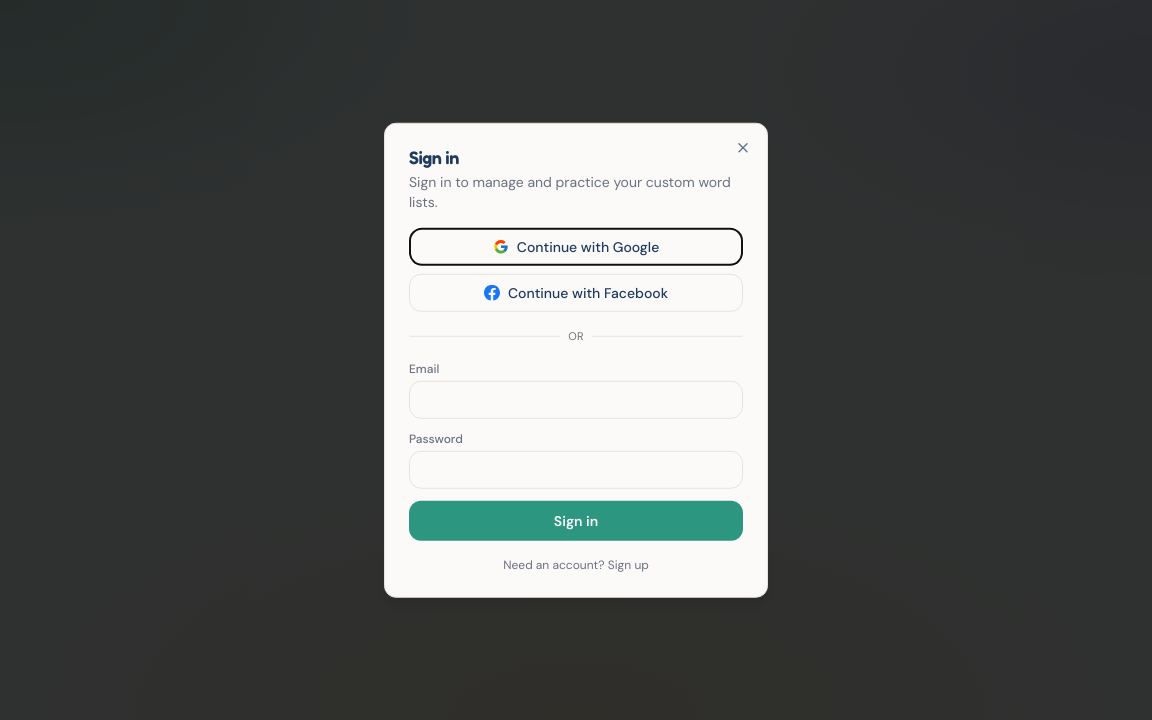
Test case: authentication and payment components › handles password errors, signup success, and social errors
Type " learner@example.com " into the field at (576, 399), box [409, 380, 743, 418]
Type "secret" into the password field at (576, 469), box [409, 450, 743, 488]
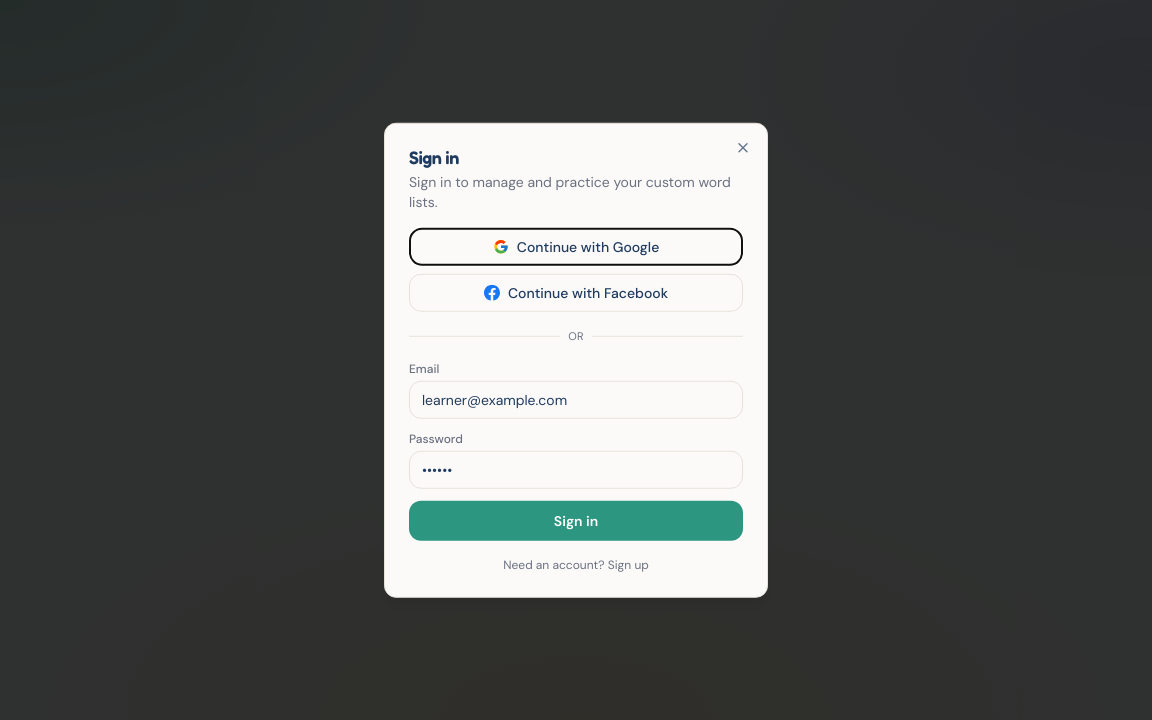
Click the button "Sign in" at (576, 520), box [409, 500, 743, 540]
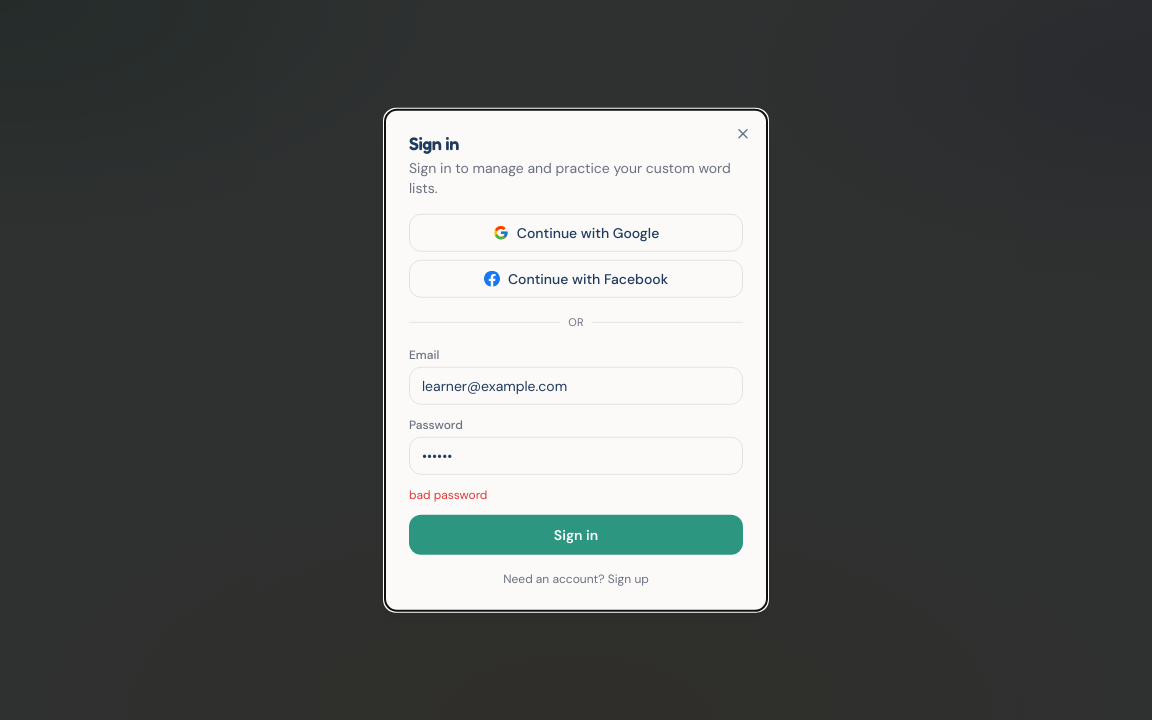
Expected: the text "bad password" is shown, [409, 486, 487, 502]
Click the button "Need an account? Sign up" at (576, 578), box [409, 570, 743, 586]
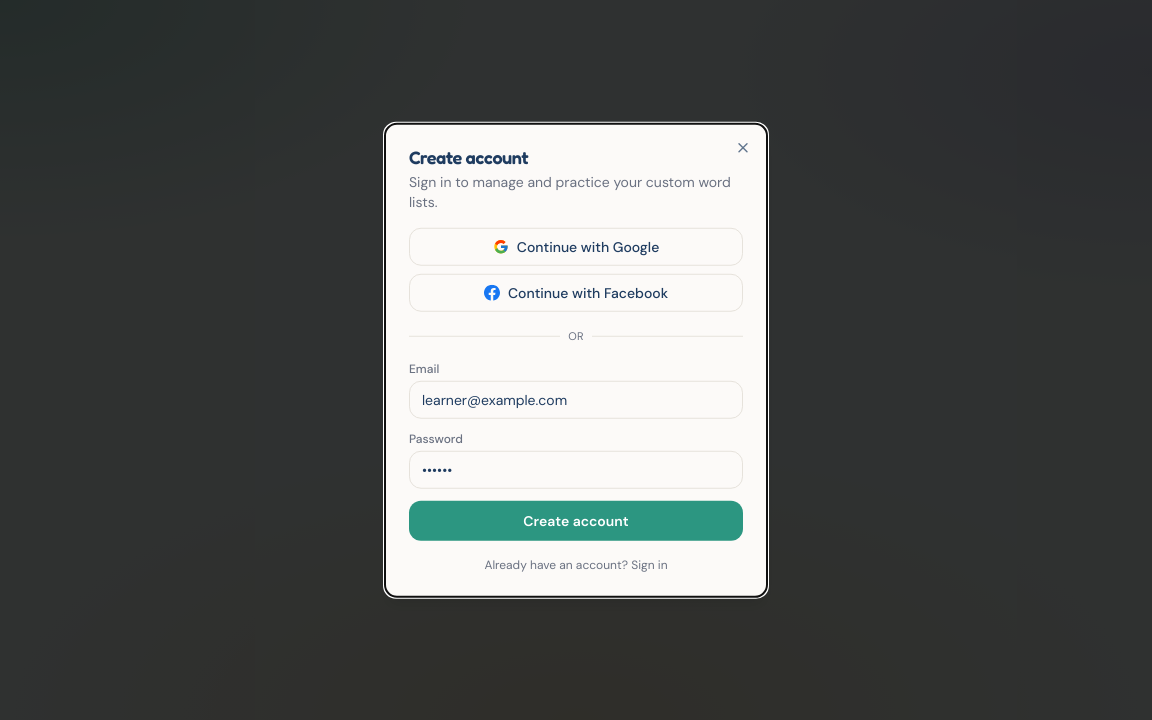
Click the button "Create account" at (576, 520), box [409, 500, 743, 540]
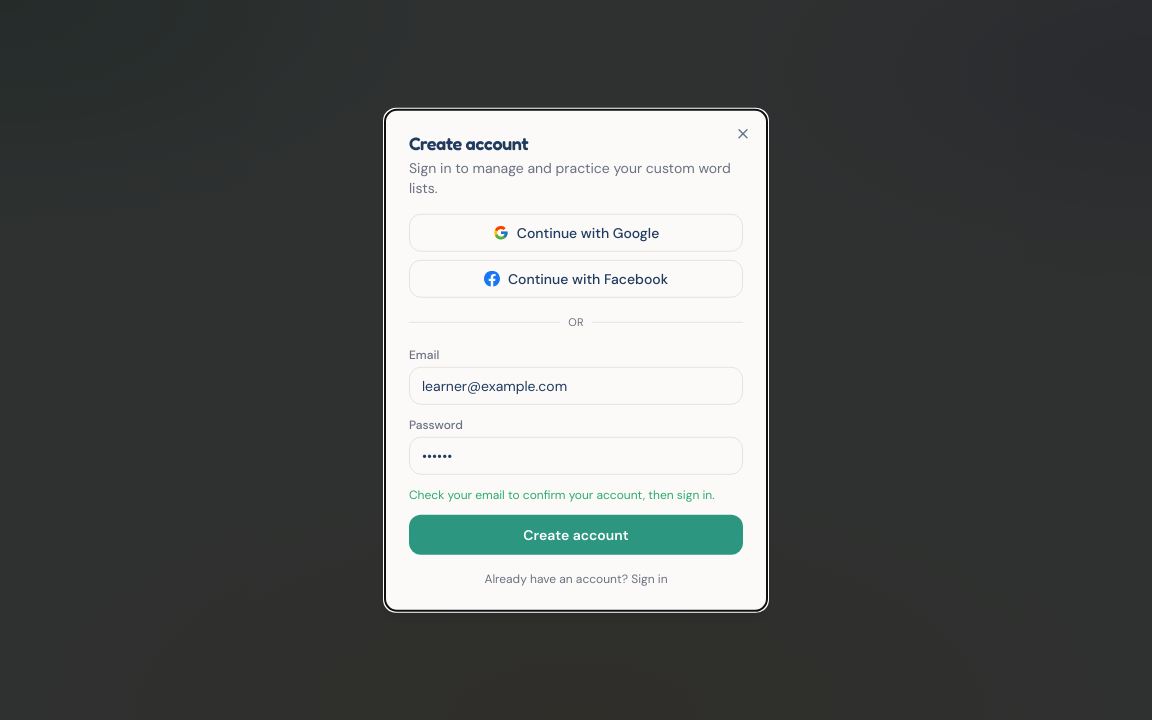
Expected: the text "Check your email to confirm your account, then sign in." is shown, [409, 486, 743, 502]
Click the button "Continue with Google" at (576, 233), box [409, 214, 743, 252]
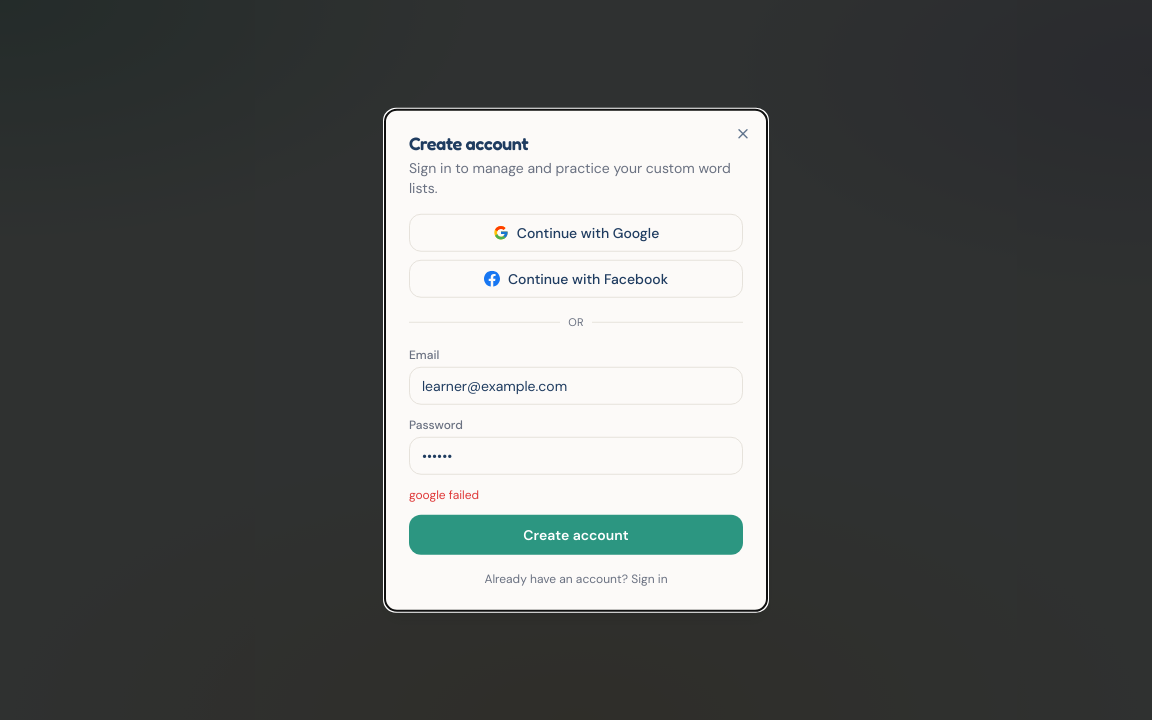
Expected: the text "google failed" is shown, [409, 486, 479, 502]
Click the button "Continue with Facebook" at (576, 279), box [409, 260, 743, 298]
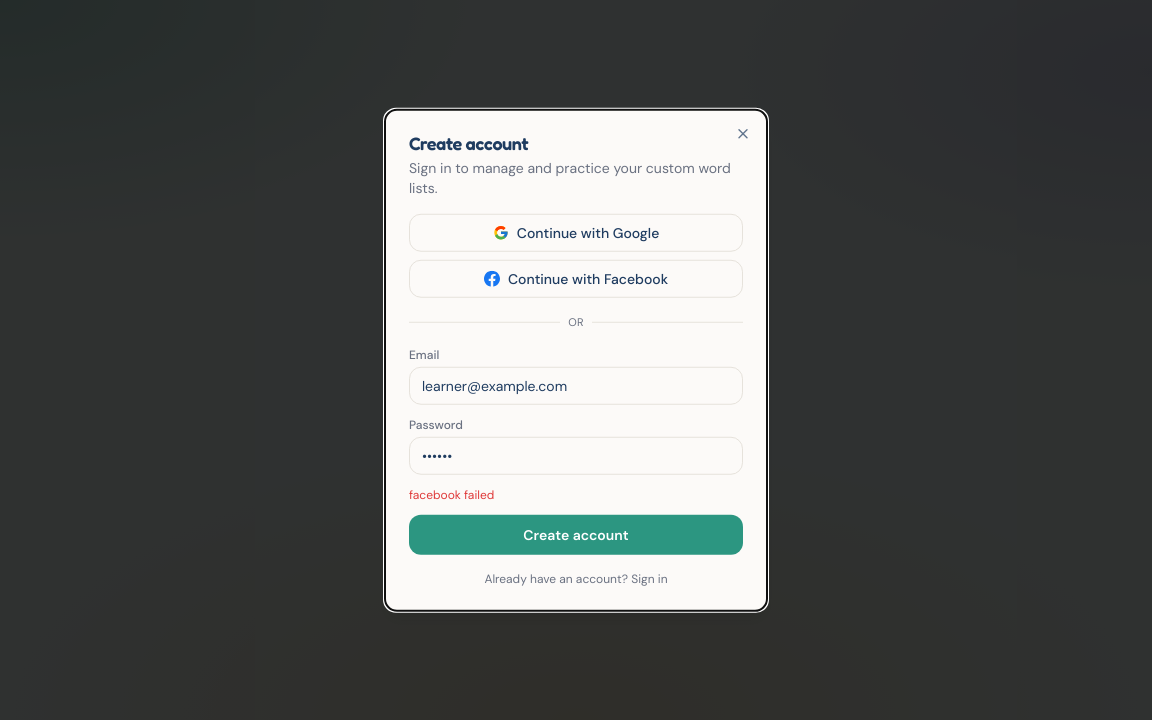
Expected: the text "facebook failed" is shown, [409, 486, 494, 502]
